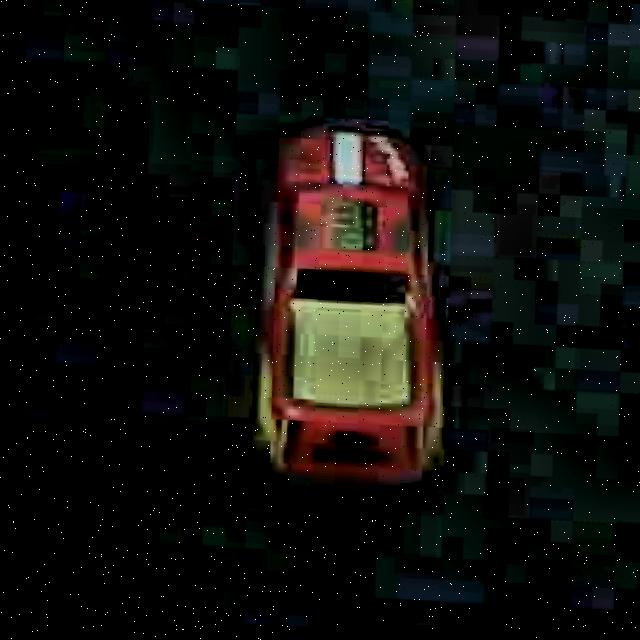car: (221, 106, 499, 514)
